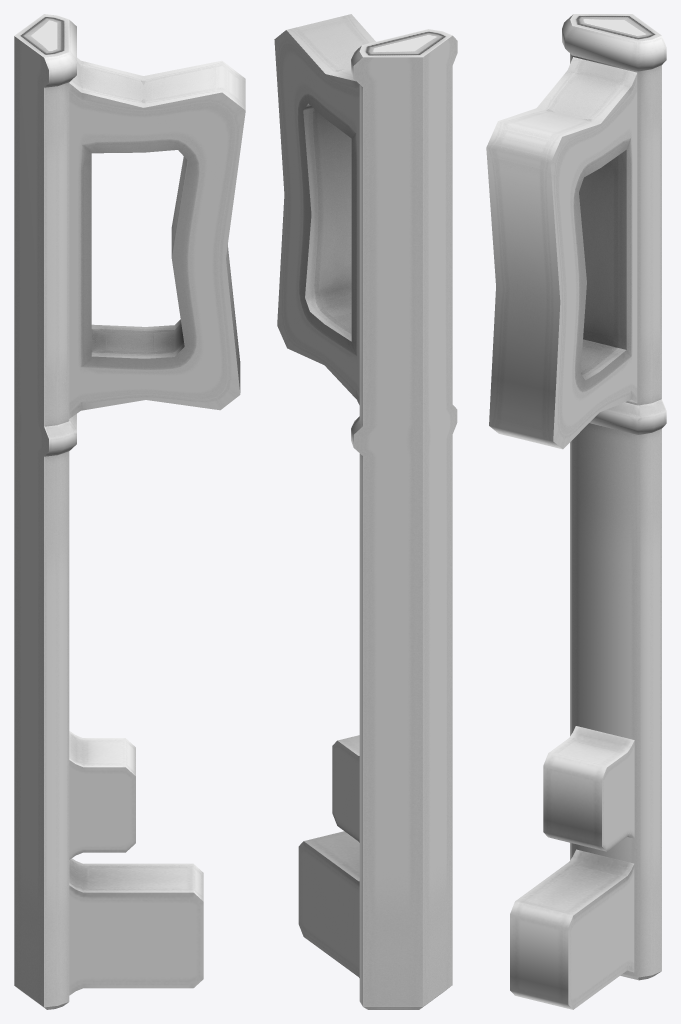
The model's file is 226_the_Key_of_Love.fbx.
The picture shows the model from 3 angles, left to right: view 1: azimuth 30°, elevation 25°; view 2: azimuth 150°, elevation 25°; view 3: azimuth 270°, elevation 25°; orthographic projection.
Parts seen in each view (by area): view 1: 226_the_Key_of_Love; view 2: 226_the_Key_of_Love; view 3: 226_the_Key_of_Love.
Boxes of the visible parts, x1,y1,x2,y2 form: 226_the_Key_of_Love: (14,14,245,1009); 226_the_Key_of_Love: (274,14,457,1009); 226_the_Key_of_Love: (486,14,666,1009).
Bounding box in the file's own units: 6.25 × 30.01 × 5.21.
